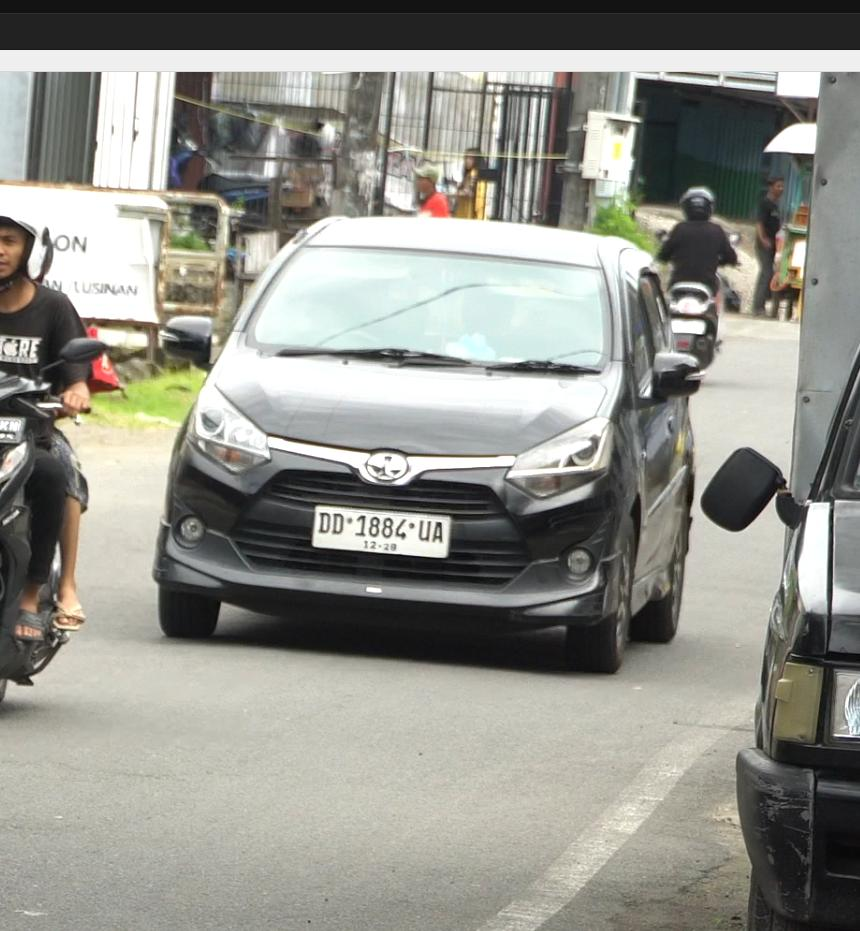number-plate: (310, 506, 454, 566)
